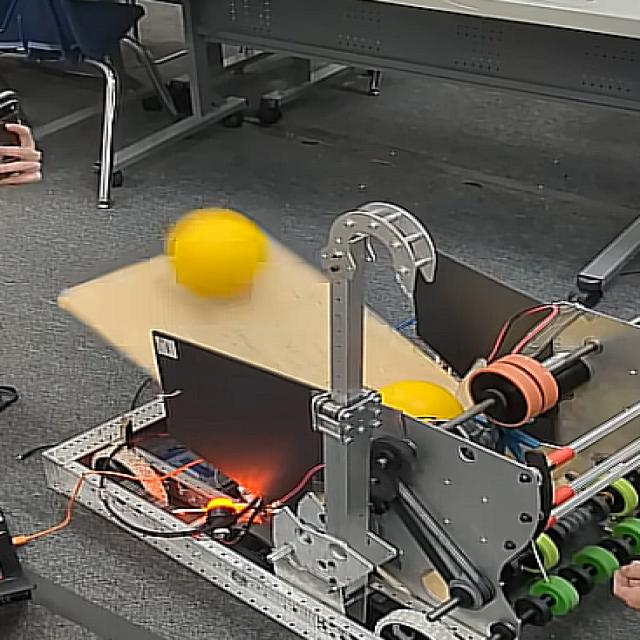Fuel: (166, 208, 269, 297), (166, 209, 266, 297), (374, 379, 462, 423), (382, 380, 460, 420)
